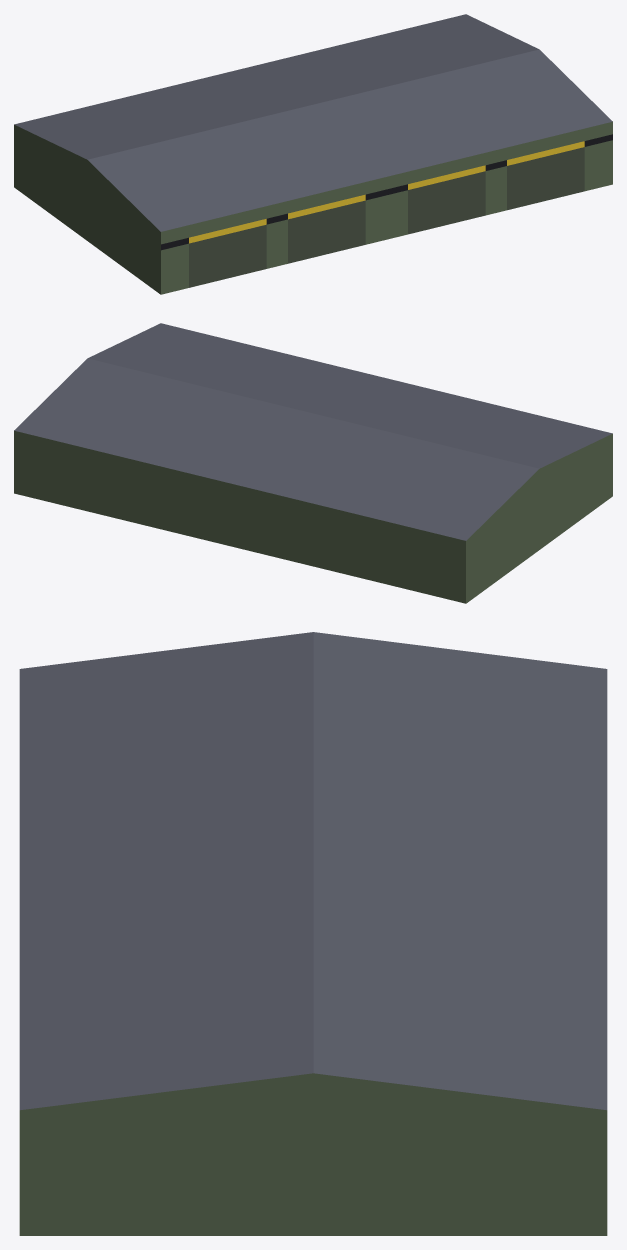
File: Kit_Depot.glb
The picture shows the model from 3 angles, top to bottom: view 1: azimuth 30°, elevation 25°; view 2: azimuth 150°, elevation 25°; view 3: azimuth 270°, elevation 25°; orthographic projection. The views are drawn at different scales.
Visible parts, largest first — view 1: Kit_Depot; view 2: Kit_Depot; view 3: Kit_Depot.
Part boxes in pixels (x1,y1,x2,y2): Kit_Depot: (14,14,612,294); Kit_Depot: (14,323,612,603); Kit_Depot: (19,632,607,1235).
Size of the model in its own units: 64 by 11 by 36.
